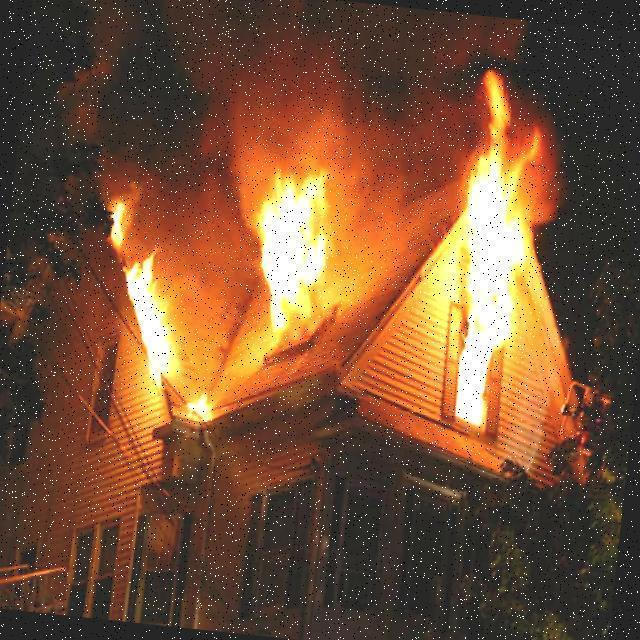Fire: (424, 96, 572, 432), (225, 164, 353, 348), (99, 247, 198, 389)
Smoke: (75, 0, 458, 182)
